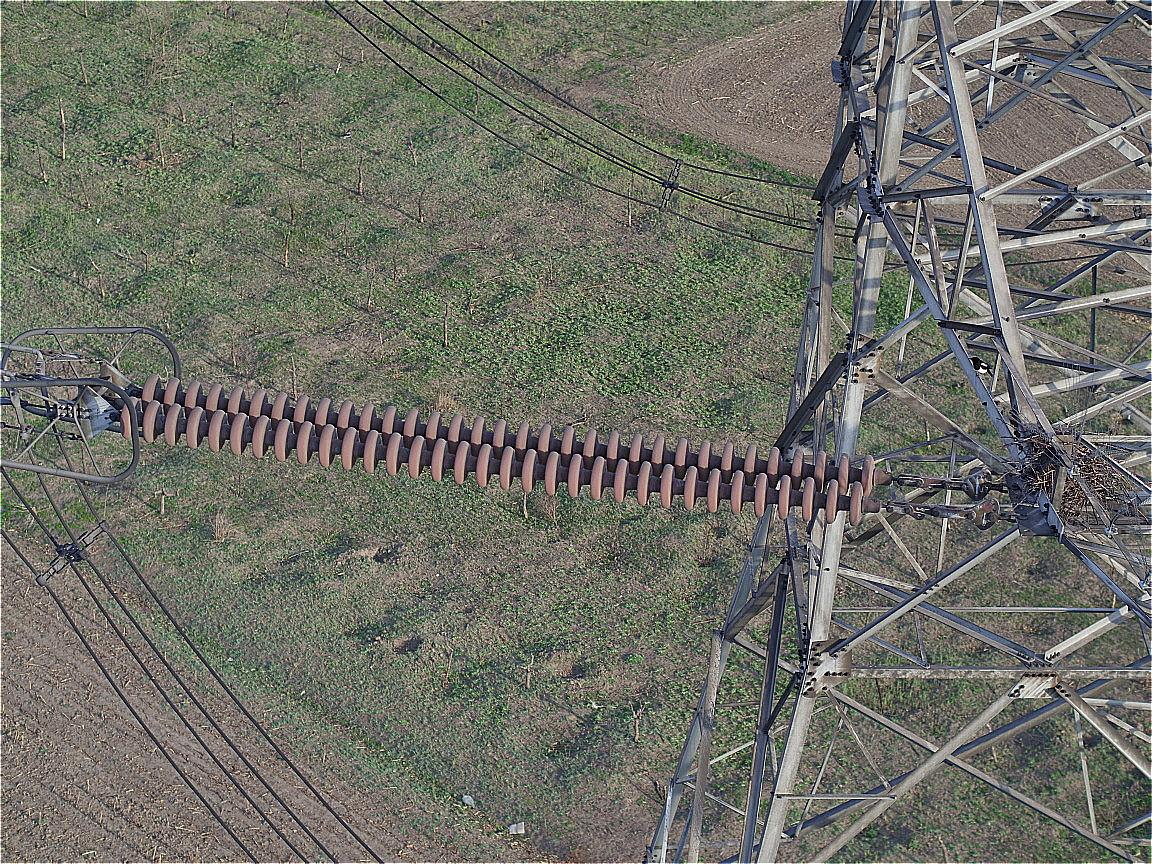insultor1: (116, 353, 904, 545)
